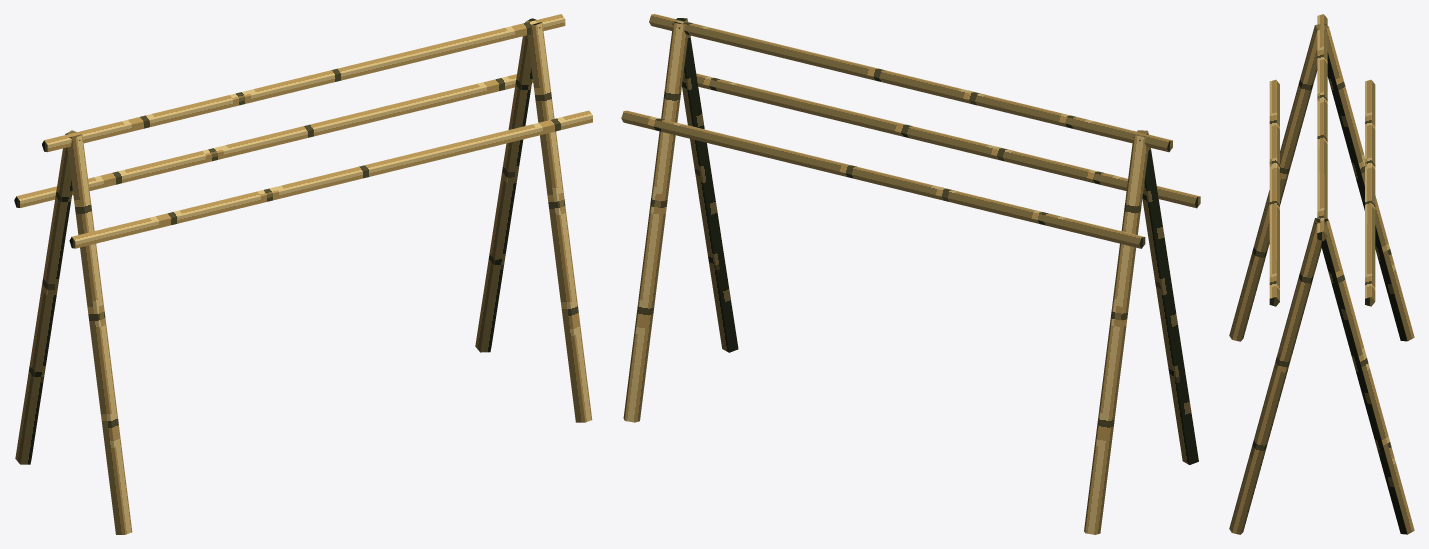
The model's file is JP_Prop_FishRack_A.glb.
3 renders of one model, left to right at view 1: azimuth 30°, elevation 25°; view 2: azimuth 150°, elevation 25°; view 3: azimuth 270°, elevation 25°, orthographic. The views are drawn at different scales.
Visible parts, largest first — view 1: JP_Prop_FishRack_A; view 2: JP_Prop_FishRack_A; view 3: JP_Prop_FishRack_A.
Boxes of the visible parts, box(x1,y1,x2,y2) form: JP_Prop_FishRack_A: box(14, 14, 592, 534); JP_Prop_FishRack_A: box(621, 14, 1200, 534); JP_Prop_FishRack_A: box(1229, 14, 1414, 534).
Bounding box in the file's own units: 2.7 × 1.82 × 0.9738.
1 material, 1 textured.
